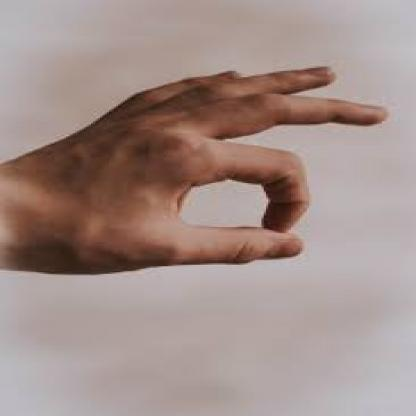ok: (0, 63, 389, 276)
